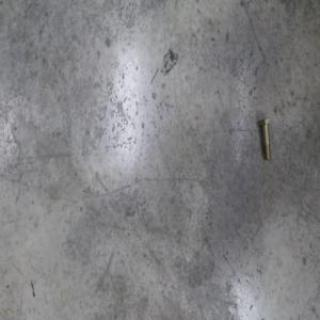Bolttrack_idkeyframe: (257, 116, 270, 160)
